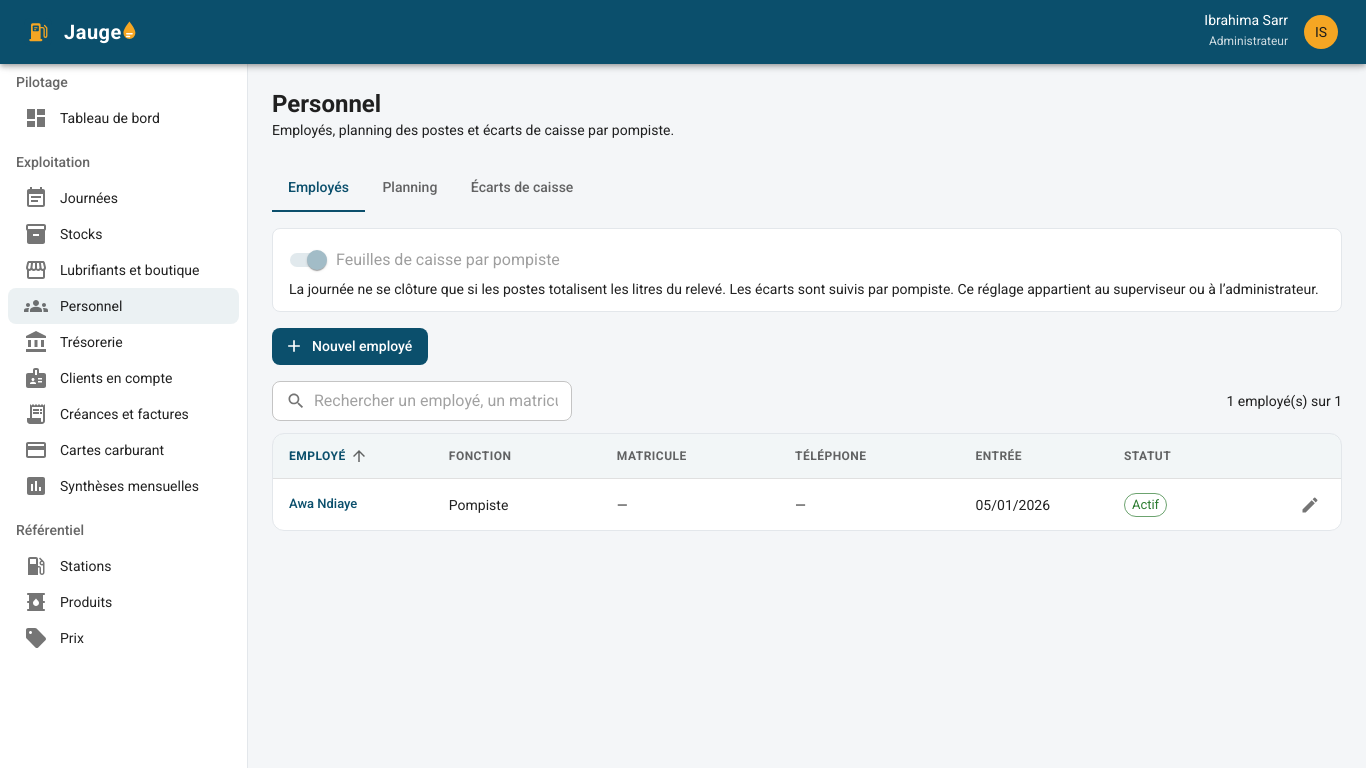
Scenario: page Personnel › crée un employé ; le réglage des feuilles de caisse reste au superviseur
The image size is (1366, 768).
expect the button "Awa Ndiaye" is shown: met, box [289,489,357,520]
expect the switch labelled "Feuilles de caisse par pompiste" is checked: met, box [290,250,560,270]
Click the button "Nouvel employé" at (350, 346), box [272,328,428,364]
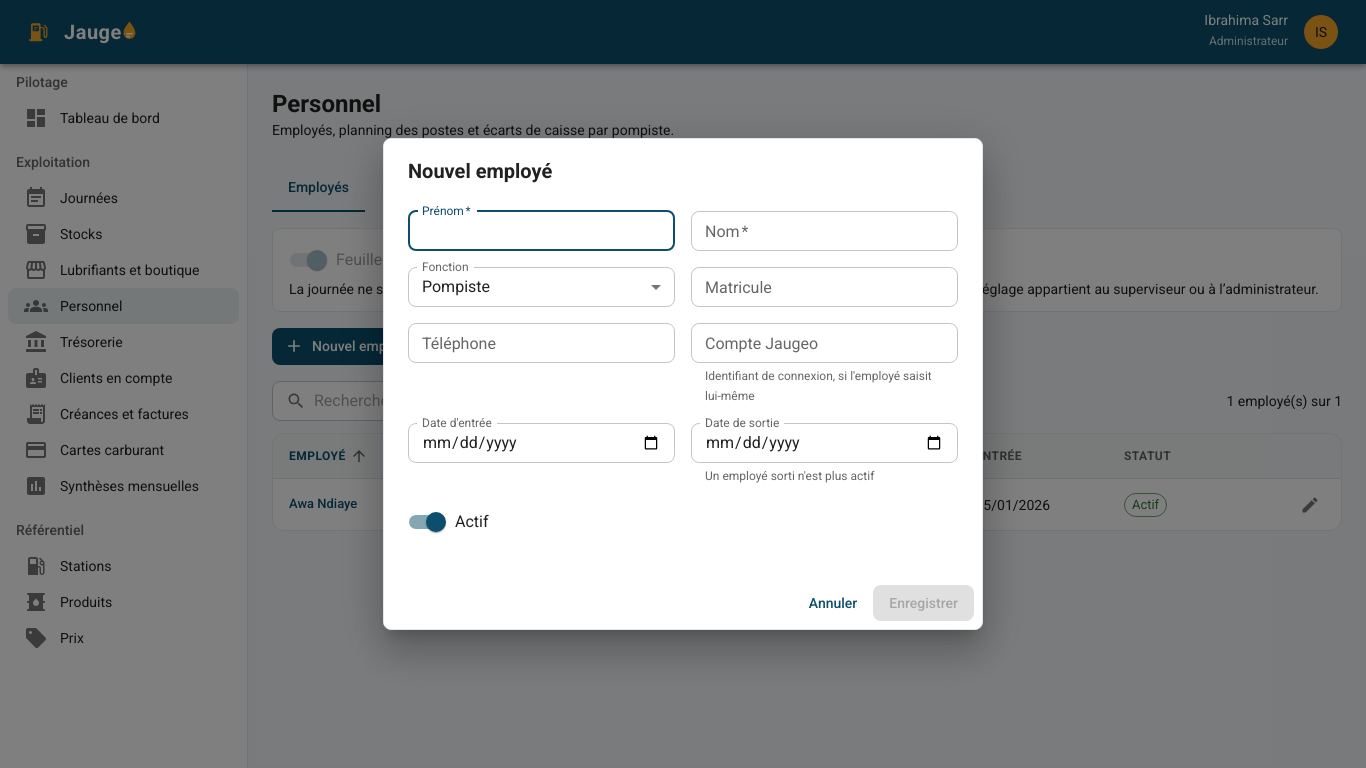
expect the button "Enregistrer" is disabled: met, box [873,585,974,621]
Type "Moussa" into the field labelled "Prénom *" at (542, 231), box [408,211,675,251]
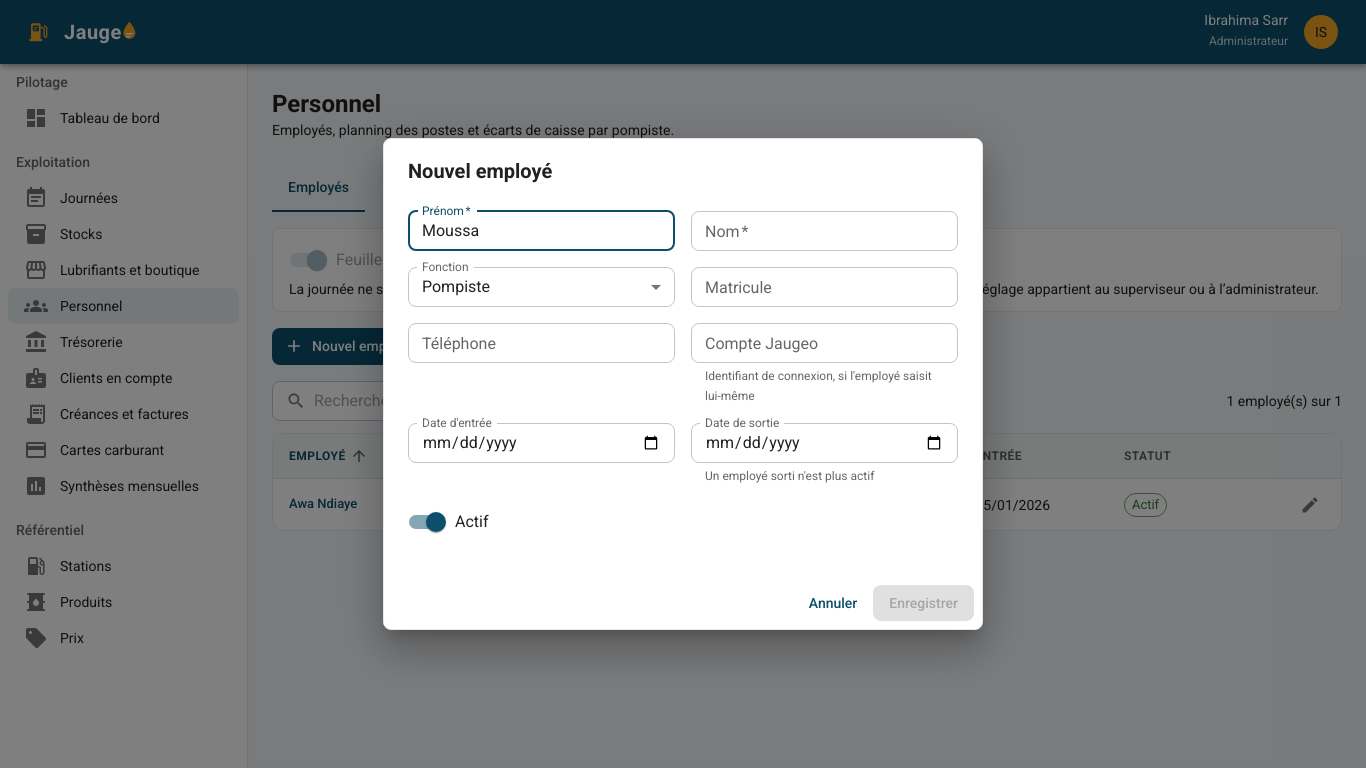
Type "Fall" into the field labelled "Nom *" at (824, 231), box [691,211,958,251]
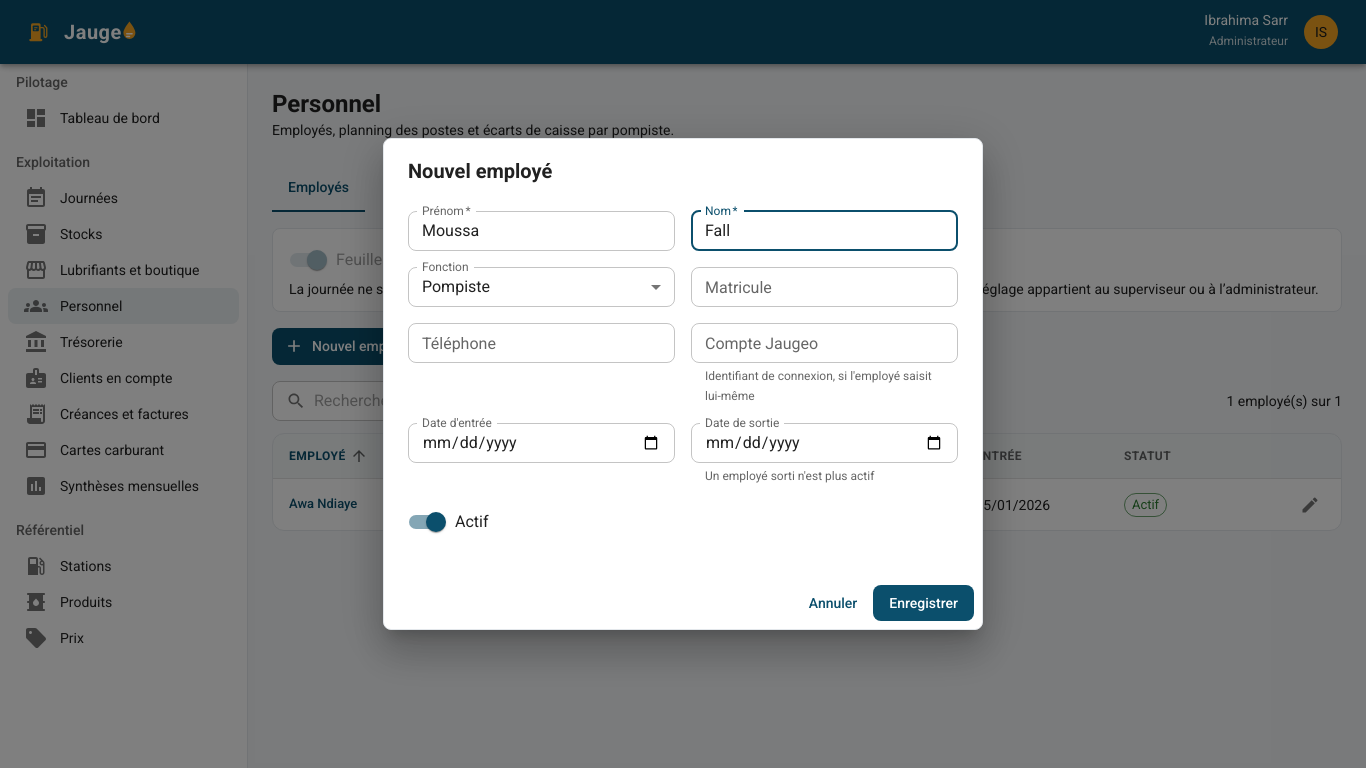
Type "nia-02" into the field labelled "Matricule" at (824, 287), box [691,267,958,307]
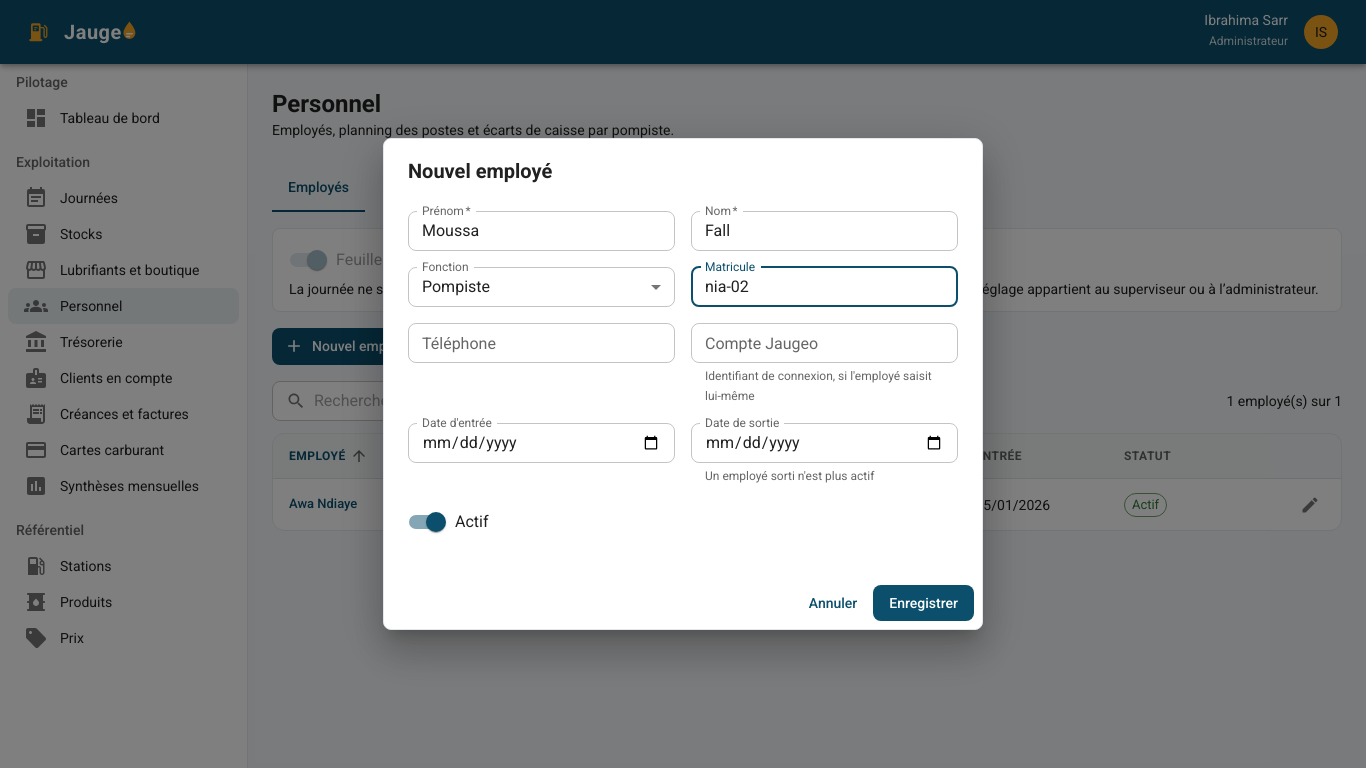
Click the button "Enregistrer" at (924, 603), box [873,585,974,621]
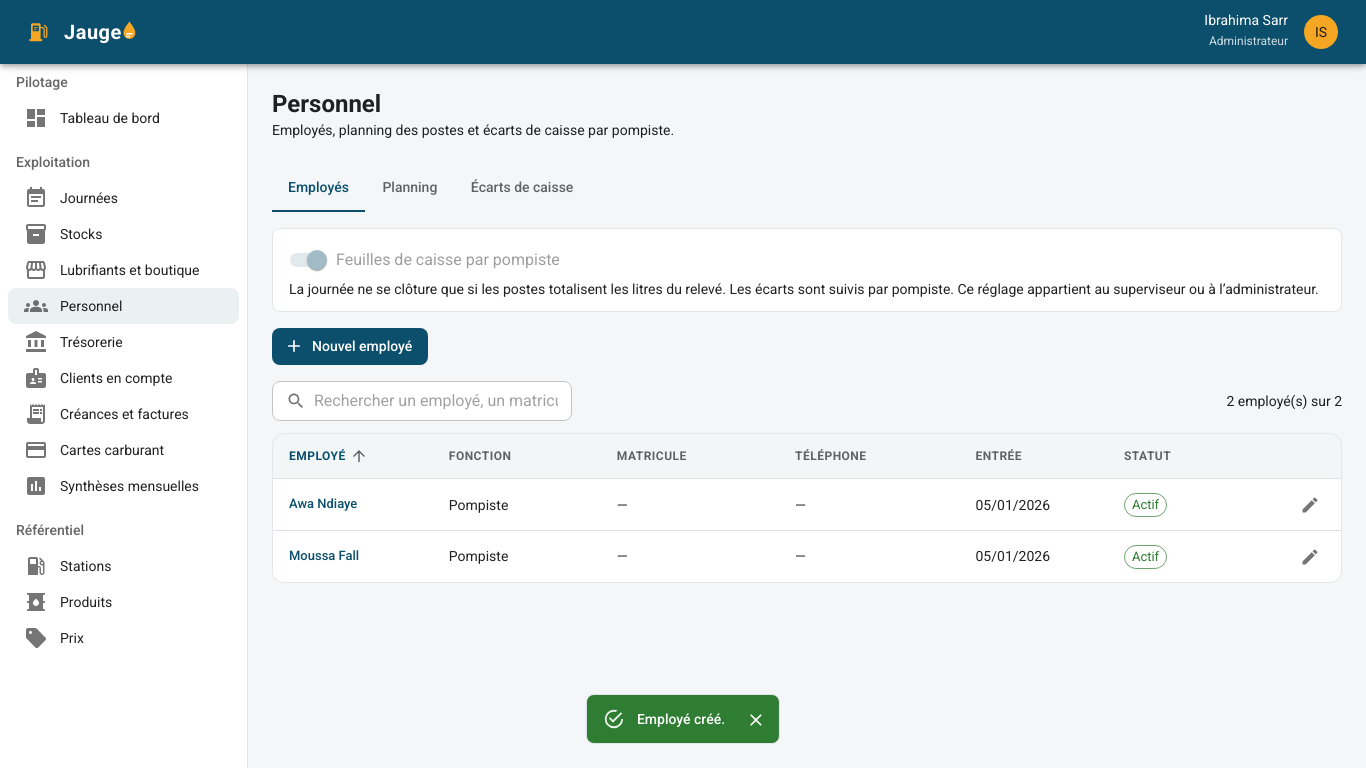
expect the button "Moussa Fall" is shown: met, box [289,541,359,572]
